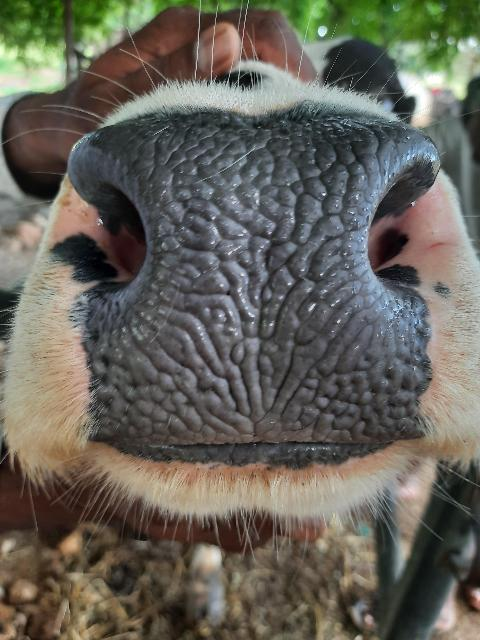Muzzle: (135, 122, 368, 438)
